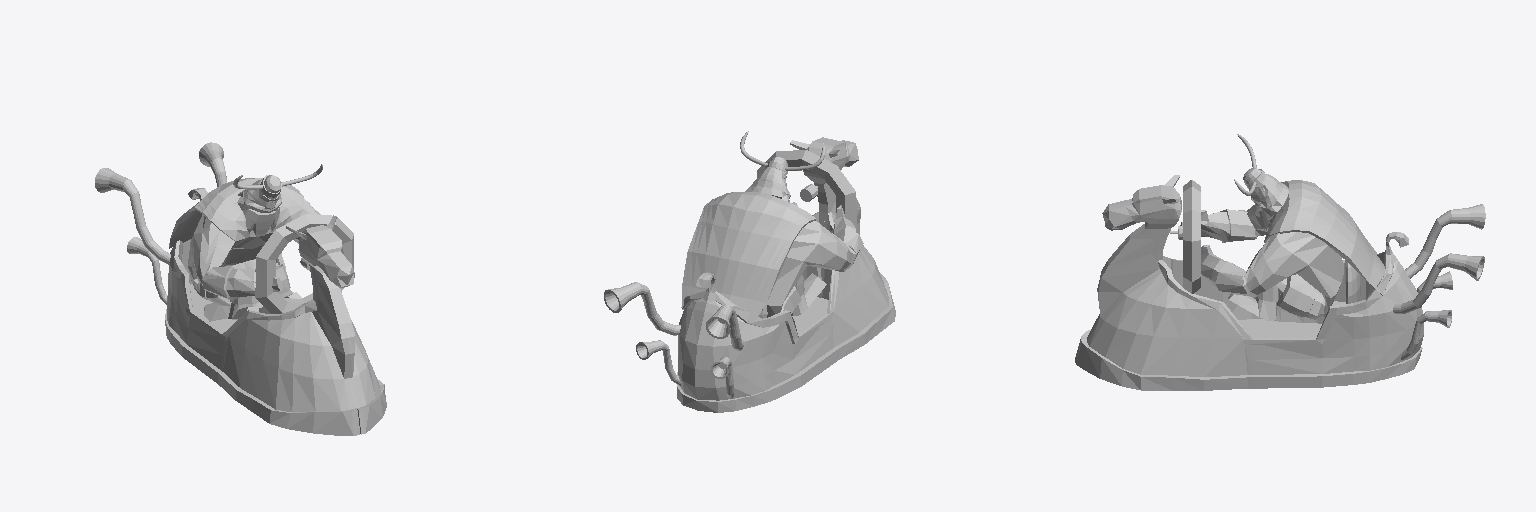
The model's file is vikingoVacile_000432.obj.
3 views of the same model, side by side, from view 1: azimuth 30°, elevation 25°; view 2: azimuth 150°, elevation 25°; view 3: azimuth 270°, elevation 25° (orthographic).
Parts seen in each view (by area): view 1: kartVikingo, Vikingo; view 2: kartVikingo, Vikingo; view 3: kartVikingo, Vikingo.
Boxes of the visible parts, box(x1,y1,x2,y2) form: kartVikingo: box(95, 142, 386, 435); Vikingo: box(169, 164, 322, 319); kartVikingo: box(604, 137, 895, 412); Vikingo: box(681, 131, 863, 322); kartVikingo: box(1075, 175, 1485, 390); Vikingo: box(1180, 134, 1384, 321).
Bounding box in the file's own units: 4.13 × 5.85 × 10.31.